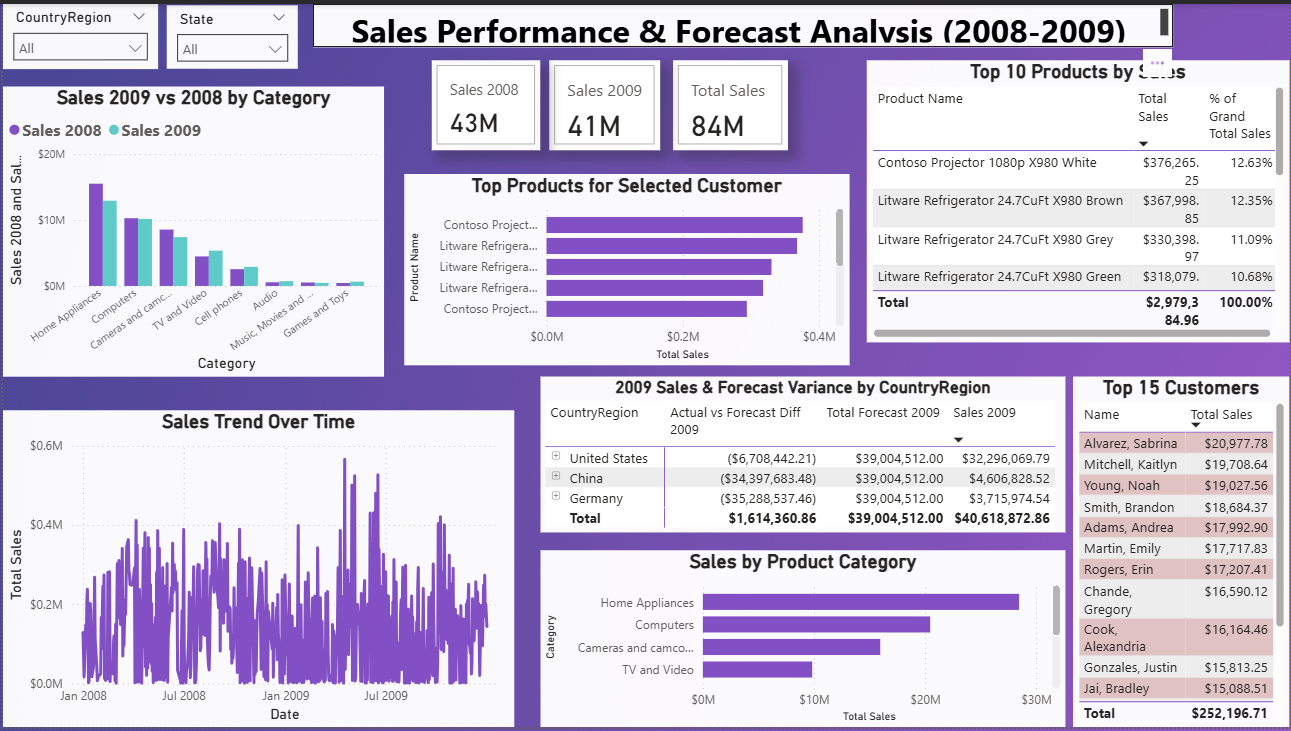

The page's visual inventory and layout, read from the dashboard file:
{"tool":"powerbi","page":{"name":"Page 1","canvas":[1280,720],"ordinal":0},"visuals":[{"type":"slicer","fields":{"Values":["Customers.CountryRegion"]},"box":[0,0,154.3,64.7],"z":0},{"type":"slicer","fields":{"Values":["Customers.State"]},"box":[163,1.2,130.6,63.4],"z":1000},{"type":"cardVisual","fields":{"Data":["Sales.Total Sales"]},"box":[666.5,56,114.4,89.6],"z":2000},{"type":"cardVisual","fields":{"Data":["Sales.Sales 2009"]},"box":[543,55.7,110.7,89.6],"z":3000},{"type":"cardVisual","fields":{"Data":["Sales.Sales 2008"]},"box":[426.4,56,108.2,89.6],"z":4000},{"type":"lineChart","title":"Sales Trend Over Time","fields":{"Y":["Sales.Total Sales"],"Category":["DimDate.Date Hierarchy.Date","DimDate.Date Hierarchy.MonthName","DimDate.Date Hierarchy.Year"]},"box":[0,404.3,508.8,316],"z":5000},{"type":"clusteredBarChart","title":"Sales by Product Category","fields":{"Category":["Products.Category"],"Y":["Sales.Total Sales"]},"box":[534.9,543.6,522.5,176.6],"z":6000},{"type":"clusteredColumnChart","title":"Sales 2009 vs 2008 by Category","fields":{"Category":["Products.Category"],"Y":["Sales.Sales 2008","Sales.Sales 2009"]},"box":[0,82.1,379.4,288.6],"z":7000},{"type":"tableEx","title":"Top 10 Products by Sales","fields":{"Values":["Products.Product Name","Sales.Total Sales","Sales.% of Grand Total Sales"]},"box":[859.6,56,420.5,281.1],"z":8000},{"type":"pivotTable","title":"2009 Sales & Forecast Variance by CountryRegion","fields":{"Rows":["Customers.CountryRegion","Products.Brand"],"Values":["Sales.Actual vs Forecast Diff 2009","Sales.Total Forecast 2009","Sales.Sales 2009"]},"box":[534.9,370.7,522.5,155.5],"z":9000},{"type":"tableEx","title":"Top 15 Customers","fields":{"Values":["Customers.Name","Sales.Total Sales"]},"box":[1064.8,370.7,215.2,349.6],"z":10000},{"type":"textbox","box":[308.5,0,855.8,43.5],"z":12000},{"type":"clusteredBarChart","title":"Top Products for Selected Customer","fields":{"Category":["Products.Product Name"],"Y":["Sales.Total Sales"]},"box":[399.3,169.2,442.8,190.3],"z":12001}]}

Visuals, with their boxes in screenshot pixels (x1, y1, x2, y2), scaled from the page's 1280x720 canvas onto the 1291x731 screenshot:
slicer - Customers.CountryRegion: (left=0, top=0, right=156, bottom=66)
slicer - Customers.State: (left=164, top=1, right=296, bottom=66)
cardVisual - Sales.Total Sales: (left=672, top=57, right=788, bottom=148)
cardVisual - Sales.Sales 2009: (left=548, top=57, right=659, bottom=148)
cardVisual - Sales.Sales 2008: (left=430, top=57, right=539, bottom=148)
"Sales Trend Over Time" lineChart: (left=0, top=410, right=513, bottom=730)
"Sales by Product Category" clusteredBarChart: (left=539, top=552, right=1066, bottom=730)
"Sales 2009 vs 2008 by Category" clusteredColumnChart: (left=0, top=83, right=383, bottom=376)
"Top 10 Products by Sales" tableEx: (left=867, top=57, right=1290, bottom=342)
"2009 Sales & Forecast Variance by CountryRegion" pivotTable: (left=539, top=376, right=1066, bottom=534)
"Top 15 Customers" tableEx: (left=1074, top=376, right=1290, bottom=730)
textbox: (left=311, top=0, right=1174, bottom=44)
"Top Products for Selected Customer" clusteredBarChart: (left=403, top=172, right=849, bottom=365)
